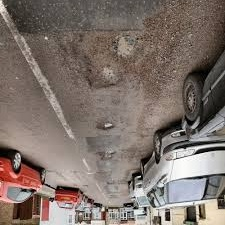pothole: (109, 32, 146, 60), (89, 65, 123, 93), (97, 143, 118, 162), (94, 120, 115, 132)
